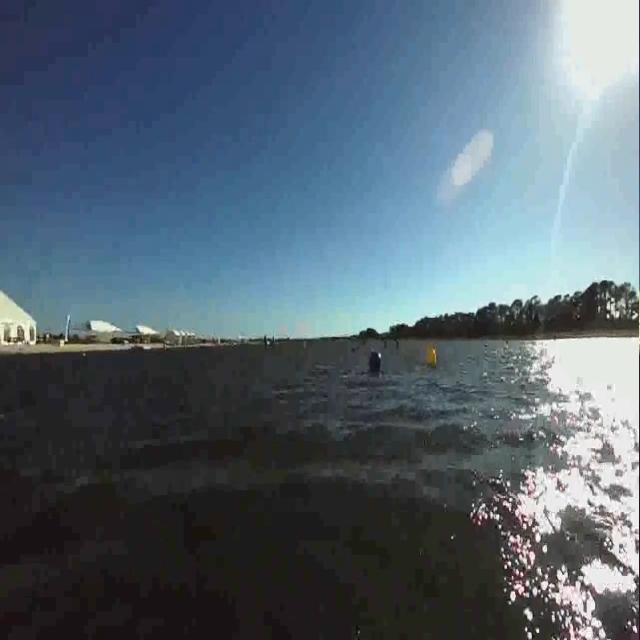blue-buoy: (367, 350, 381, 372)
yellow-buoy: (426, 344, 438, 367)
